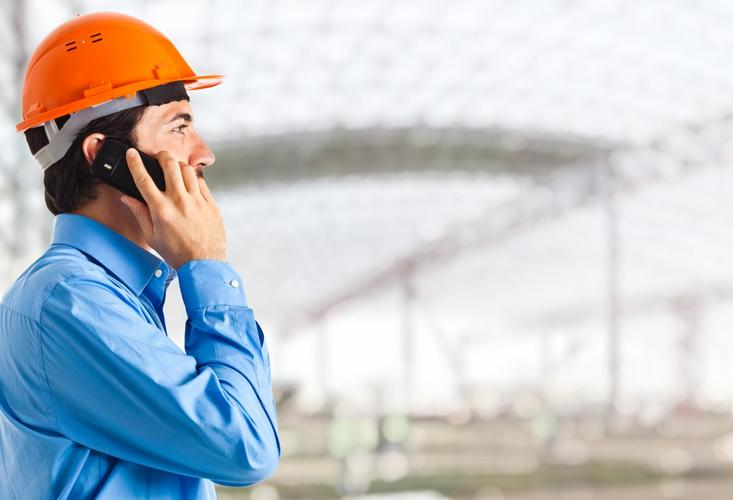calling: (89, 134, 231, 265)
